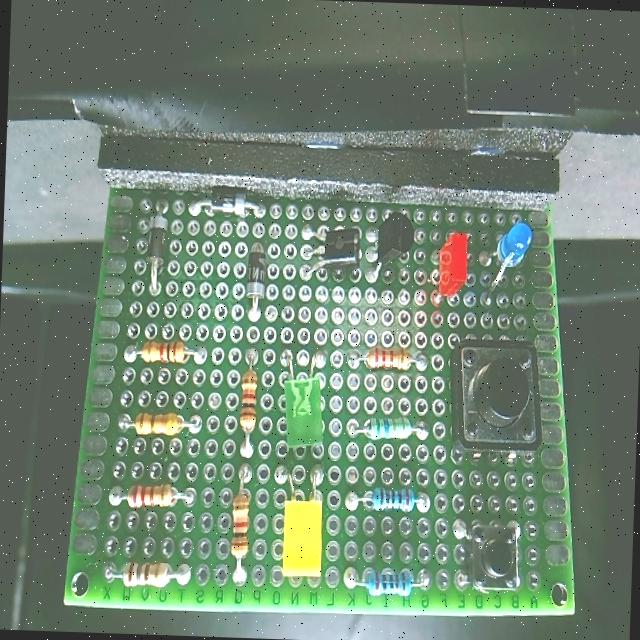diode: (137, 212, 177, 292), (237, 244, 276, 312), (199, 185, 268, 218)
led: (280, 348, 330, 453), (278, 486, 330, 578), (425, 226, 478, 313), (494, 214, 534, 284)
resistor: (103, 547, 189, 599), (109, 474, 200, 515), (224, 488, 260, 570), (235, 349, 262, 458), (362, 336, 424, 379), (362, 407, 416, 449), (132, 335, 202, 367), (119, 408, 191, 438), (367, 478, 420, 518), (361, 568, 422, 600)
switch: (451, 330, 545, 460), (457, 519, 525, 603)
transistor: (305, 216, 365, 280), (368, 210, 414, 278)
